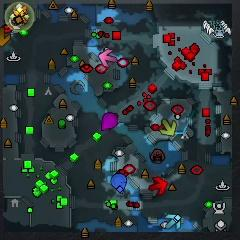Other: (10, 7, 29, 28)
p1: (111, 173, 128, 192)
p3: (100, 112, 119, 132)
x1: (100, 49, 116, 67)
x2: (160, 119, 177, 136)
x3: (165, 214, 181, 230)
x5: (0, 27, 12, 47)
